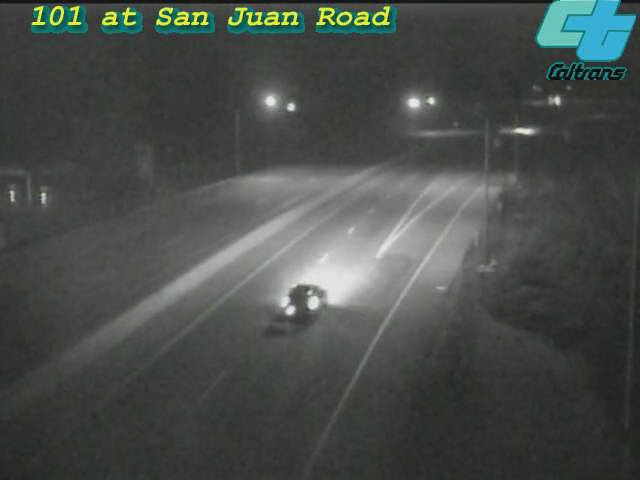vehicle: (262, 264, 342, 344), (496, 106, 546, 156)
